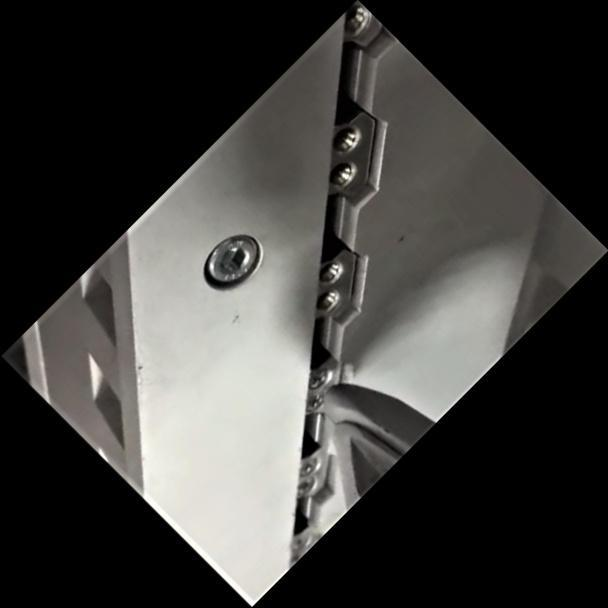hole: (321, 116, 366, 162), (321, 154, 362, 195), (308, 252, 347, 292), (308, 283, 345, 319)
